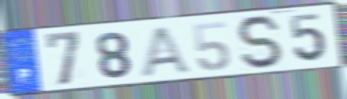5: (190, 19, 232, 72), (288, 11, 328, 64)
7: (43, 30, 83, 88)
8: (95, 30, 135, 79)
A: (138, 24, 195, 77)
S: (234, 14, 287, 71)
